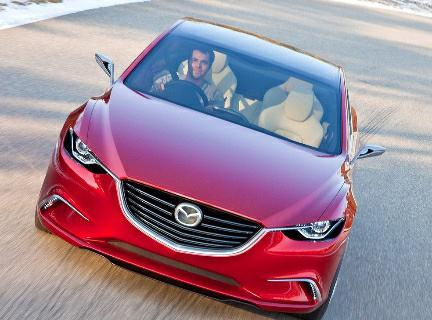马自达-Takeri: (32, 13, 383, 320)
